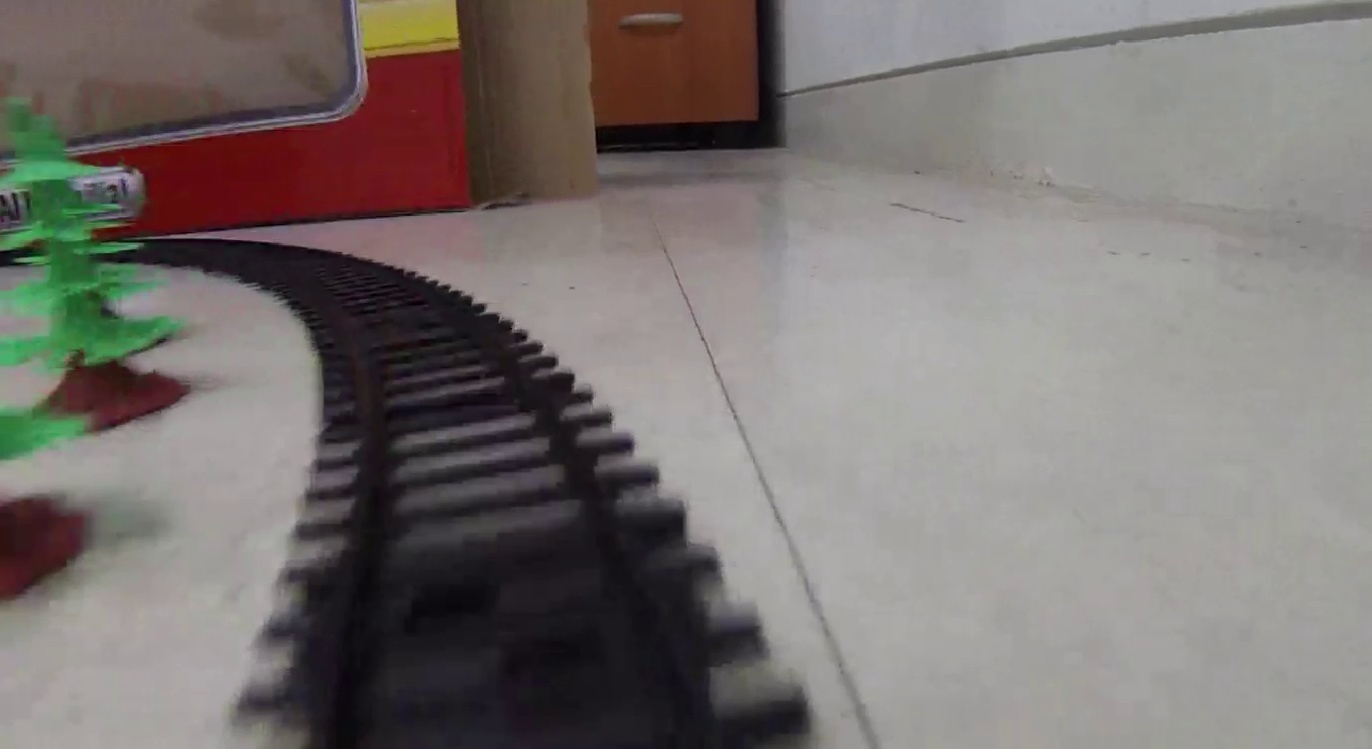tree: (6, 100, 189, 429)
